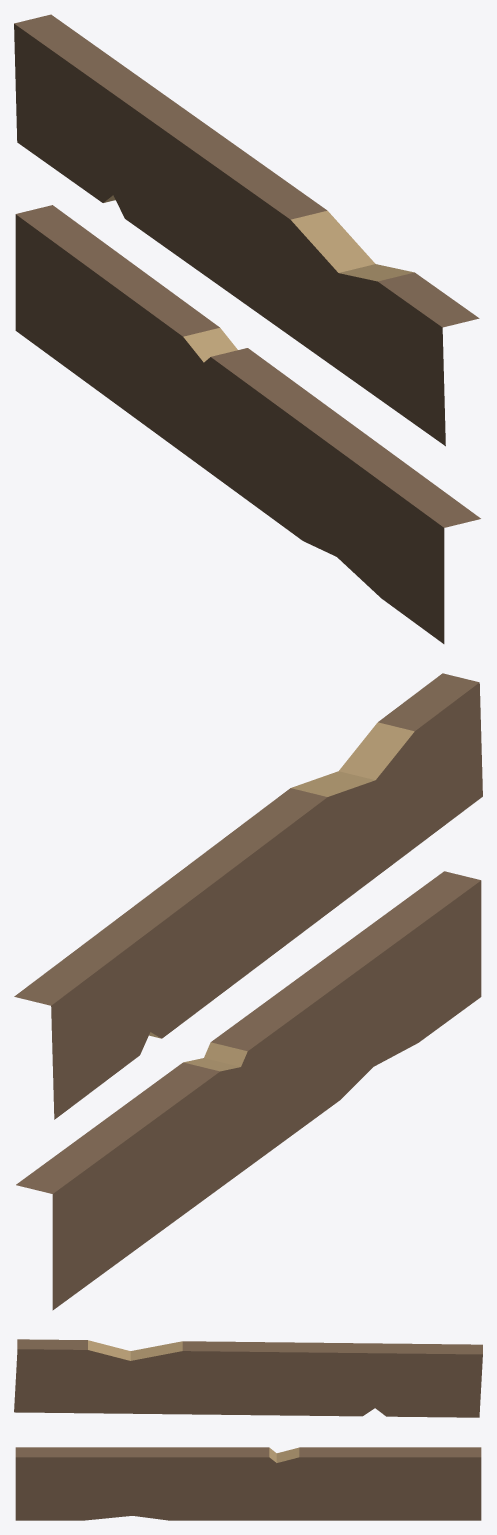
The model's file is Cave_Prop_Support_Wall_Boards_1.glb.
3 views of the same model, one above another, from view 1: azimuth 30°, elevation 25°; view 2: azimuth 150°, elevation 25°; view 3: azimuth 270°, elevation 25° (orthographic). The views are drawn at different scales.
Parts seen in each view (by area): view 1: Cave_Prop_Support_Wall_Boards_1; view 2: Cave_Prop_Support_Wall_Boards_1; view 3: Cave_Prop_Support_Wall_Boards_1.
Boxes of the visible parts, x1,y1,x2,y2 form: Cave_Prop_Support_Wall_Boards_1: (14, 14, 480, 643); Cave_Prop_Support_Wall_Boards_1: (14, 673, 482, 1310); Cave_Prop_Support_Wall_Boards_1: (14, 1339, 482, 1520).
Size of the model in its own units: 0.1 by 0.8124 by 2.01.
